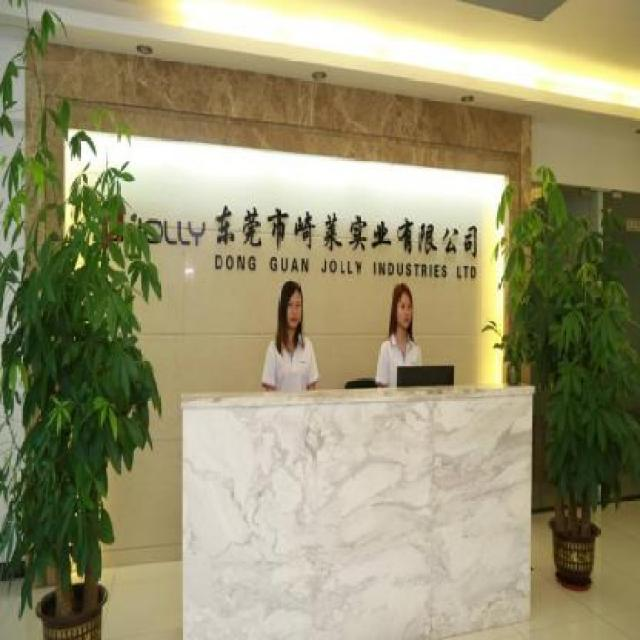frontdesk: (177, 362, 536, 639)
